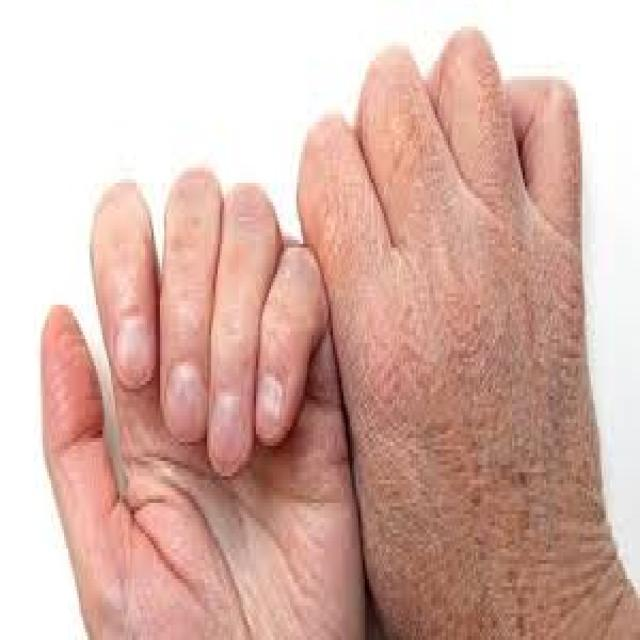Dry-Skin: (381, 230, 574, 611)
